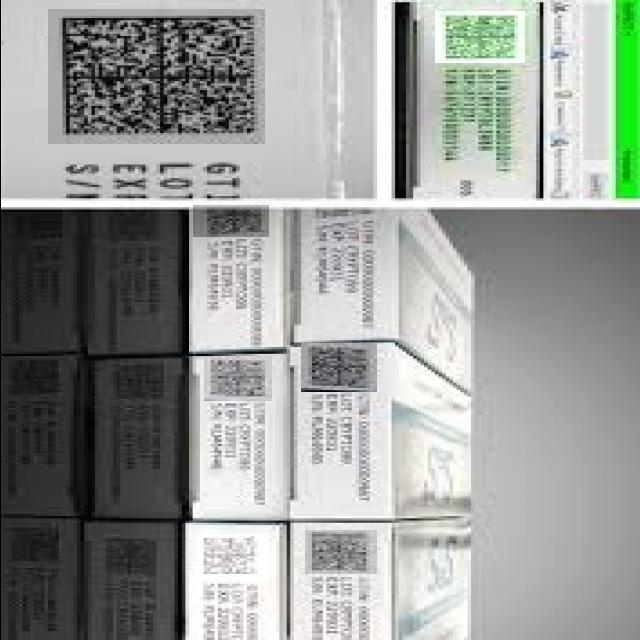Data-Matrix: (47, 9, 264, 144), (434, 11, 524, 63), (300, 343, 376, 392), (195, 534, 268, 581), (304, 530, 376, 574), (203, 356, 271, 401), (192, 205, 268, 237)
